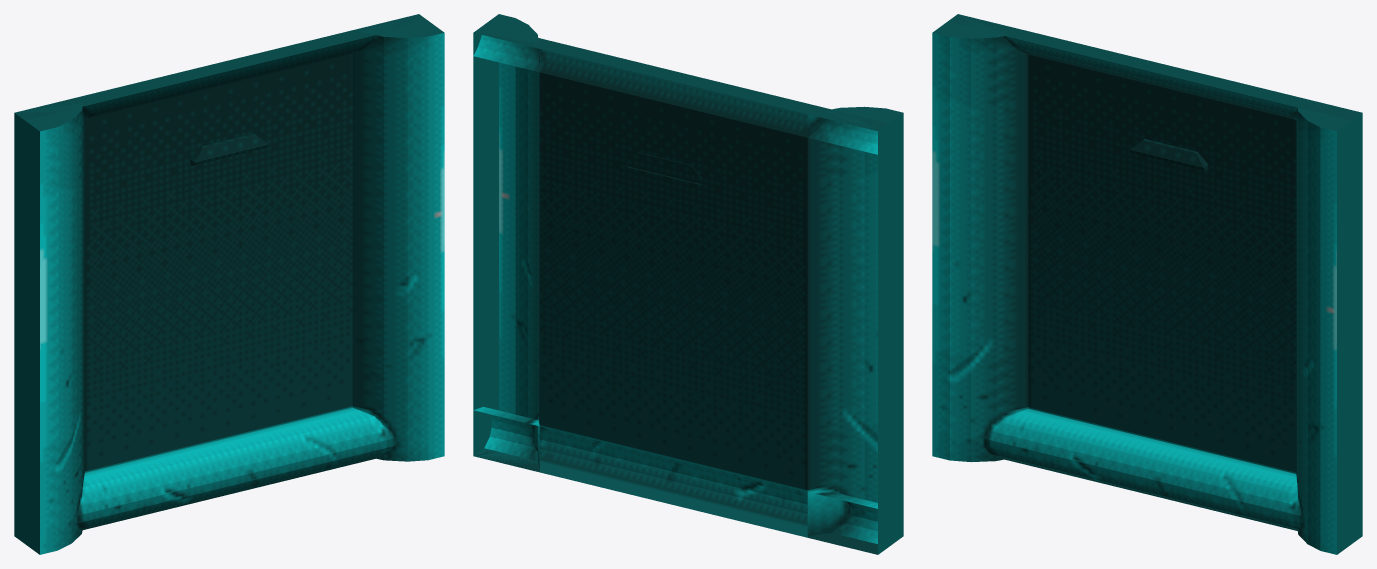
Rendered from stor1_3.fbx.
3 renders of one model, left to right at view 1: azimuth 30°, elevation 25°; view 2: azimuth 150°, elevation 25°; view 3: azimuth 330°, elevation 25°, orthographic.
Visible parts, largest first — view 1: stor1_3_mesh; view 2: stor1_3_mesh; view 3: stor1_3_mesh.
Boxes of the visible parts, left/top/right/bottom form: stor1_3_mesh: left=14, top=14, right=444, bottom=554; stor1_3_mesh: left=473, top=14, right=903, bottom=554; stor1_3_mesh: left=932, top=14, right=1362, bottom=554.
Size of the model in its own units: 256 by 256 by 28.4.
